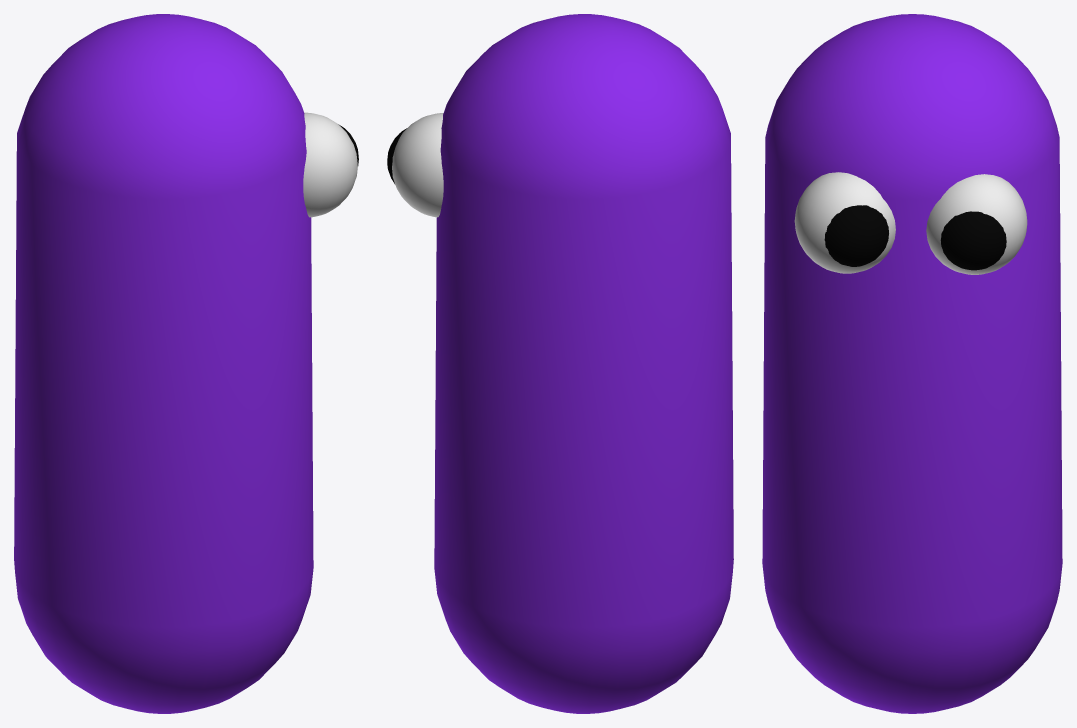
The model's file is gumbers.fbx.
3 renders of one model, left to right at view 1: azimuth 30°, elevation 25°; view 2: azimuth 150°, elevation 25°; view 3: azimuth 270°, elevation 25°, orthographic.
Visible parts, largest first — view 1: Sphere, Sphere.001; view 2: Sphere, Sphere.002; view 3: Sphere, Sphere.001, Sphere.002, Sphere.004, Sphere.003.
Boxes of the visible parts, x1,y1,x2,y2 form: Sphere: (14, 14, 313, 713); Sphere.001: (303, 112, 357, 217); Sphere: (434, 14, 733, 713); Sphere.002: (392, 113, 443, 217); Sphere: (762, 14, 1062, 713); Sphere.001: (794, 172, 895, 273); Sphere.002: (926, 174, 1027, 274); Sphere.004: (824, 205, 888, 266); Sphere.003: (940, 211, 1006, 270).
Bounding box in the file's own units: 224 × 494 × 200.
